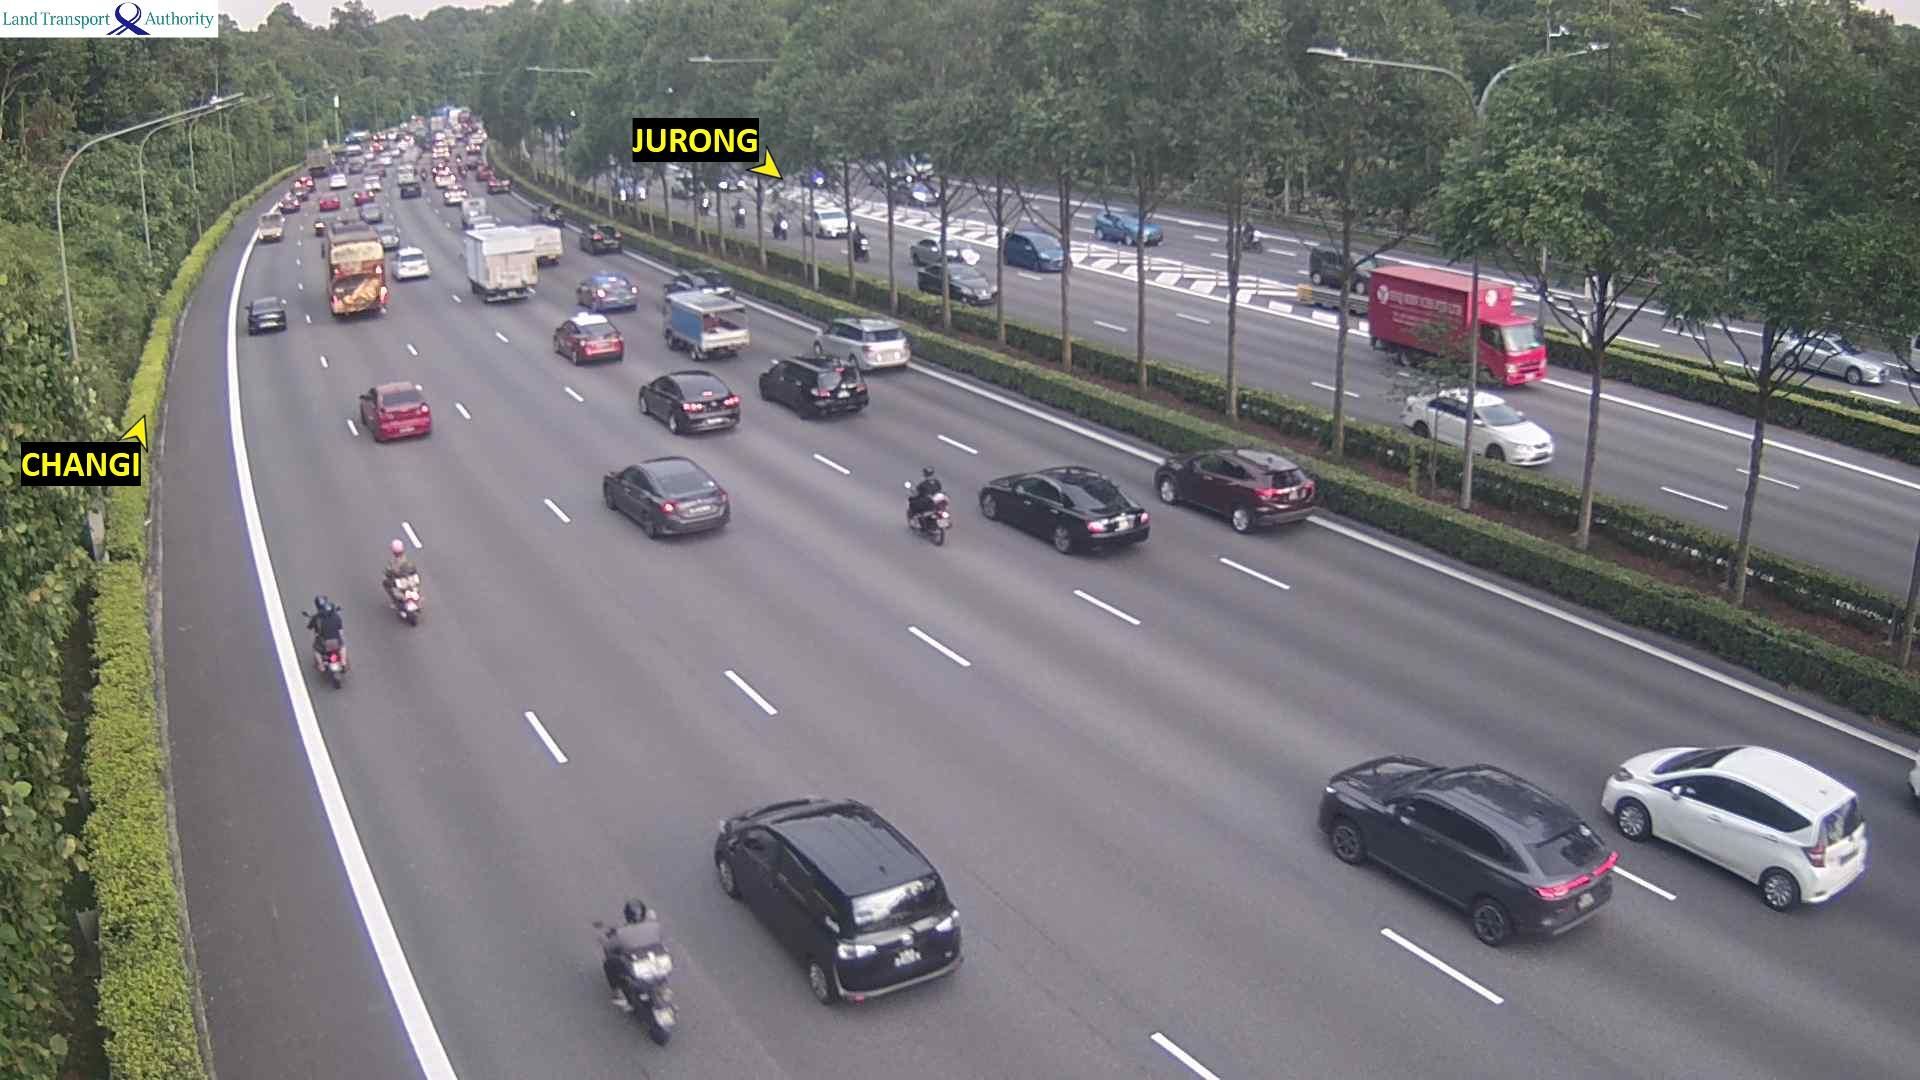incoming: (1476, 405, 1561, 461), (1490, 311, 1551, 387), (952, 269, 1001, 304), (1031, 237, 1064, 273), (818, 211, 849, 241)
